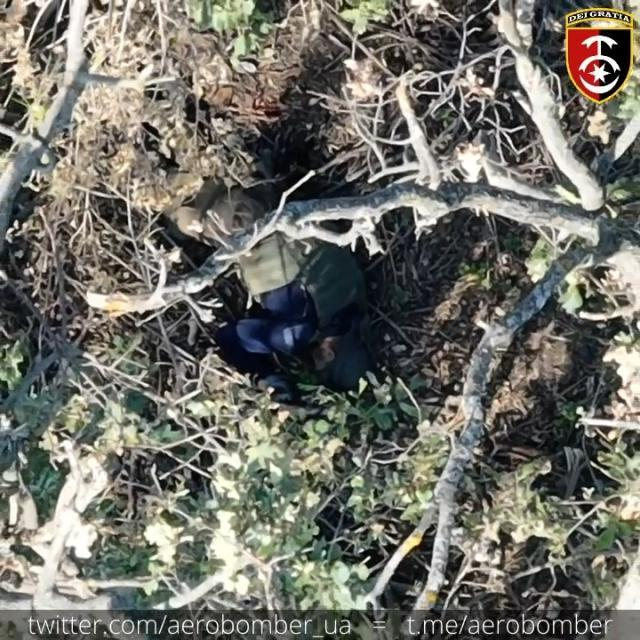MIL_Pax: (216, 231, 365, 387)
